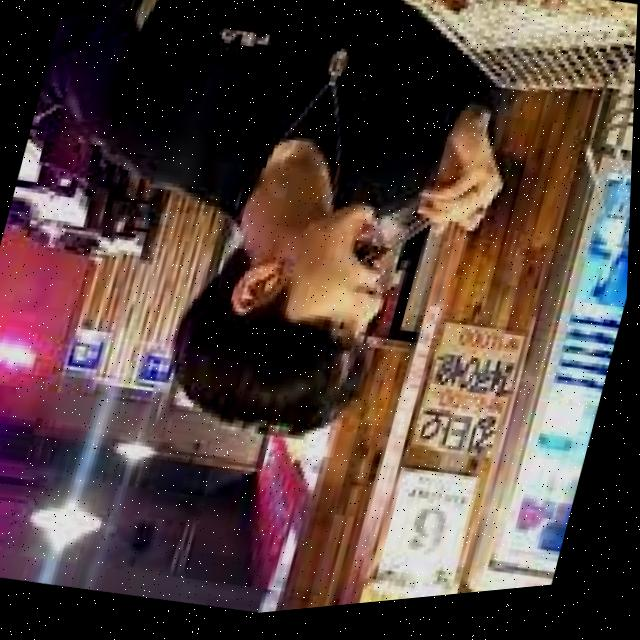eating-person: (0, 0, 585, 530)
